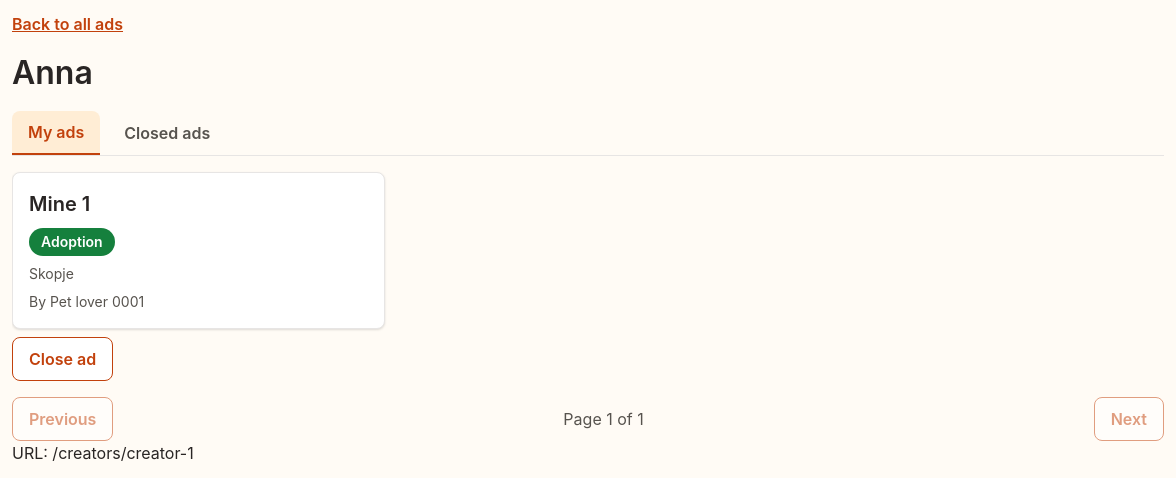
Test: CreatorProfilePage › closed ads tab › requests the closed ads and shows them in the tab panel when Closed ads is opened
This screenshot has width=1176, height=478.
Click the tab "Closed ads" at (167, 133), box [108, 111, 226, 155]
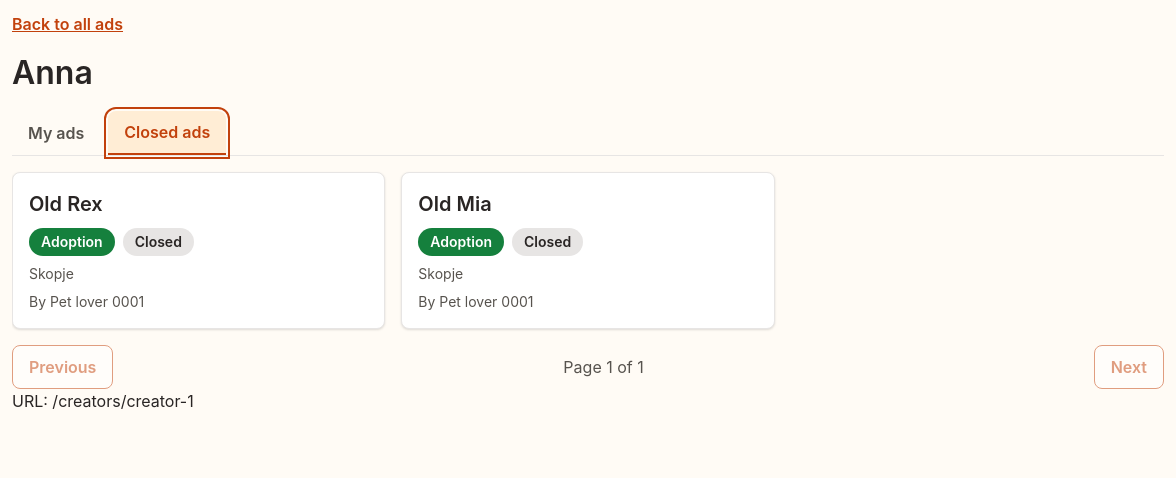
expect the heading "Old Mia" is shown: met, box [418, 192, 492, 216]
expect the panel shows "Old Rex": met, box [29, 192, 103, 216]
expect the link "Mine 1" is gone: met
